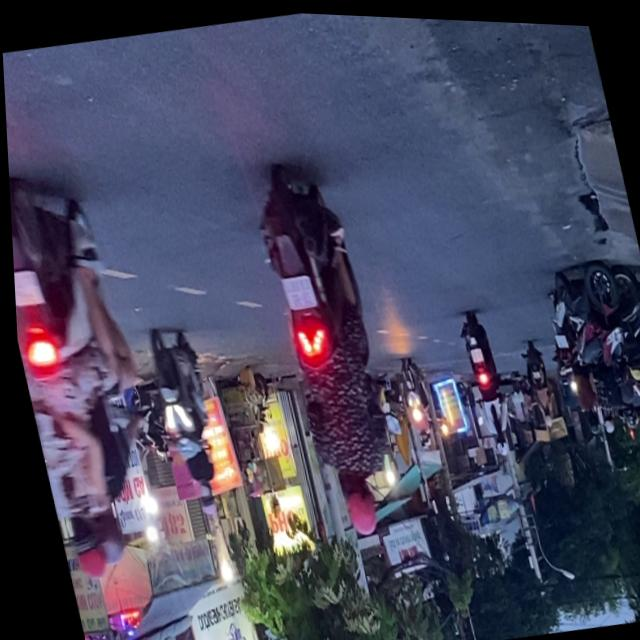helmet: (57, 513, 104, 582), (330, 467, 376, 535), (79, 502, 123, 568), (189, 480, 211, 515)
licenseplate: (7, 161, 176, 592), (239, 150, 411, 543), (134, 319, 229, 520)
nohelmet: (276, 270, 313, 308), (11, 266, 41, 309)
